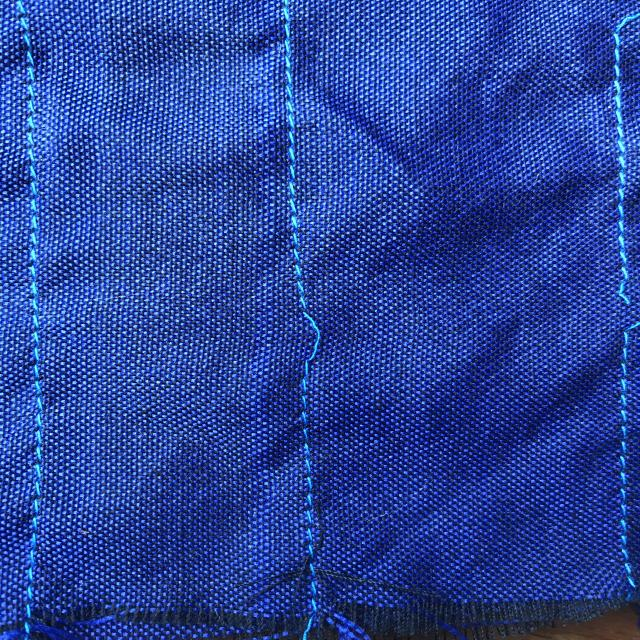broken: (600, 259, 640, 350)
good: (251, 119, 321, 235)
skip: (272, 294, 354, 381)
